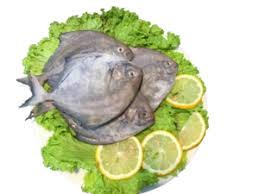Ikan Bawal: (27, 55, 144, 130)
